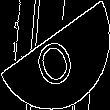O_NW: (30, 22, 80, 88)
